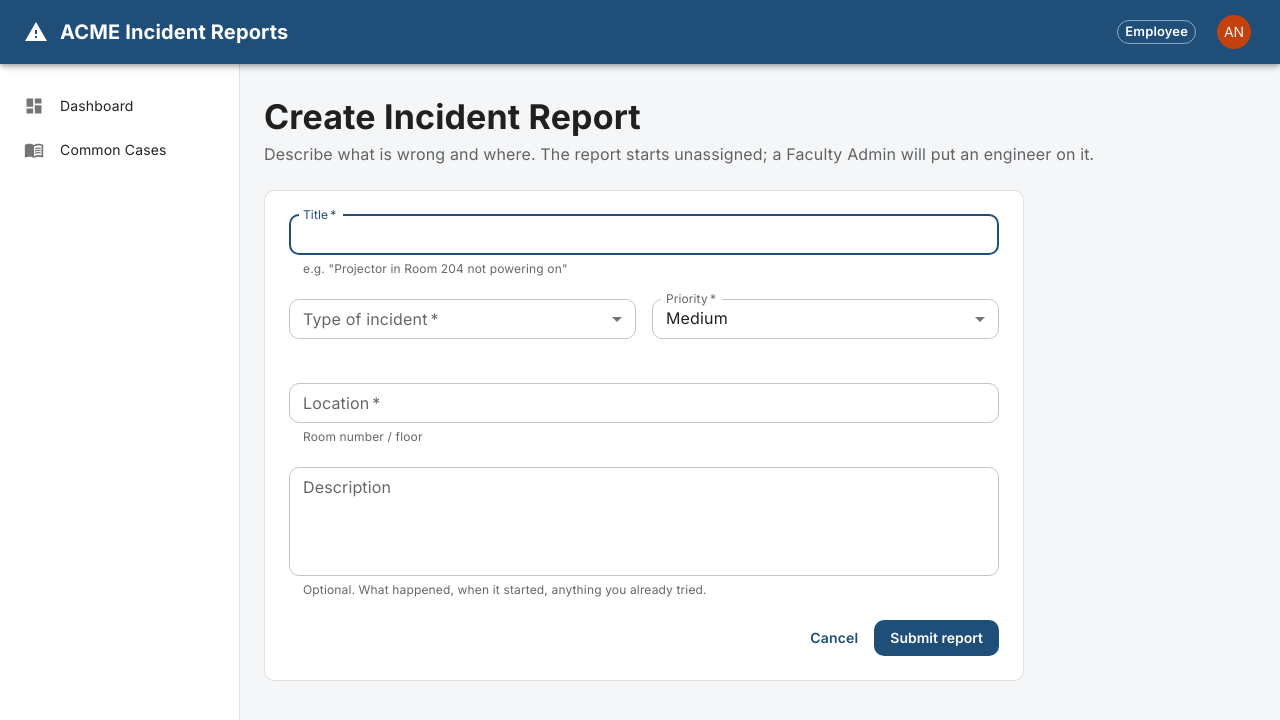
Test: CreateReportPage › offers the incident types and priorities
Expected: the heading "Create Incident Report" is shown, left=264, top=96, right=641, bottom=137
Click the dropdown named "type of incident" at (462, 319), box left=289, top=299, right=636, bottom=339
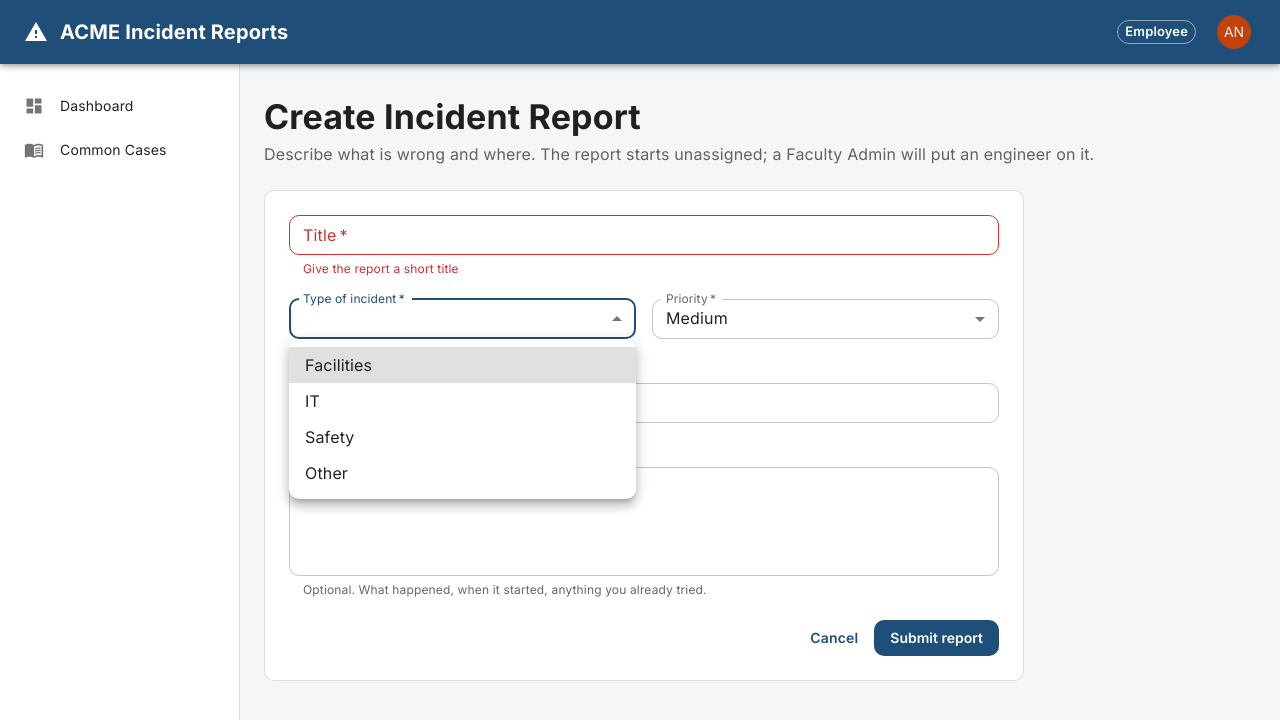
Expected: the options read "Facilities", "IT", "Safety", "Other", in this order, left=289, top=347, right=636, bottom=383; left=305, top=391, right=320, bottom=411; left=305, top=427, right=354, bottom=447; left=305, top=463, right=348, bottom=483
Press Escape
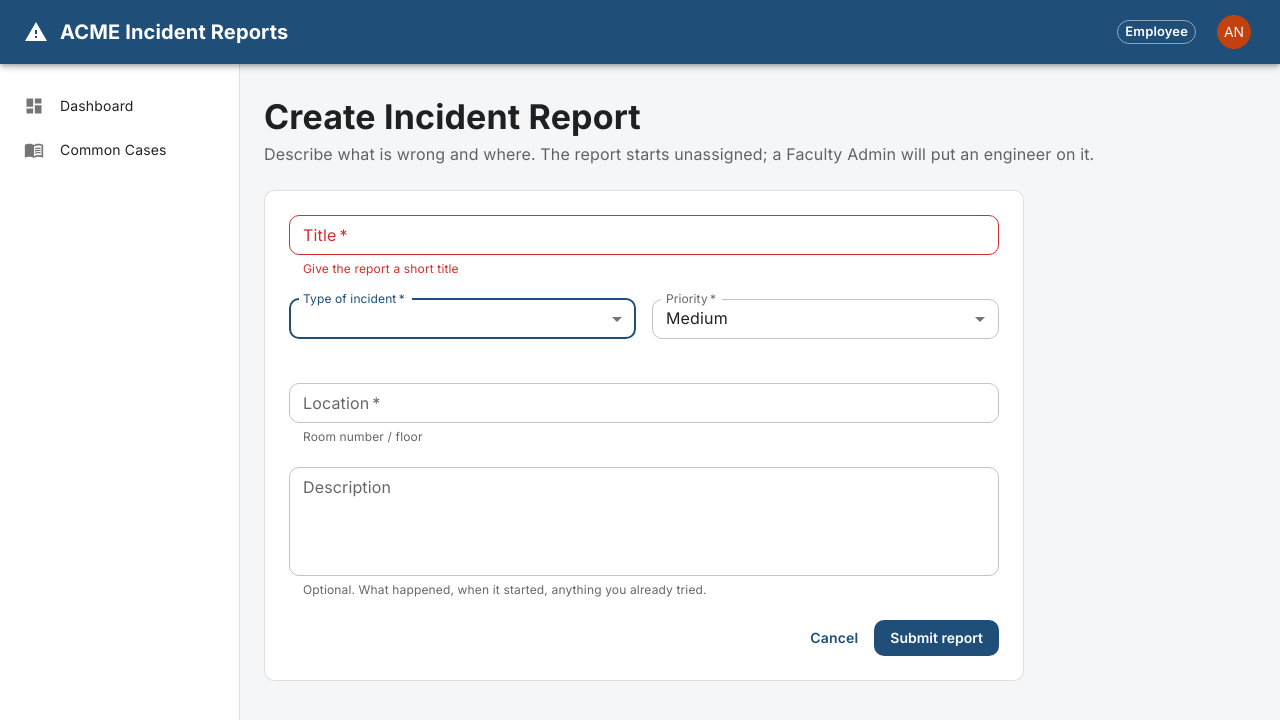
Click the dropdown named "priority" at (697, 318), box left=666, top=308, right=728, bottom=328
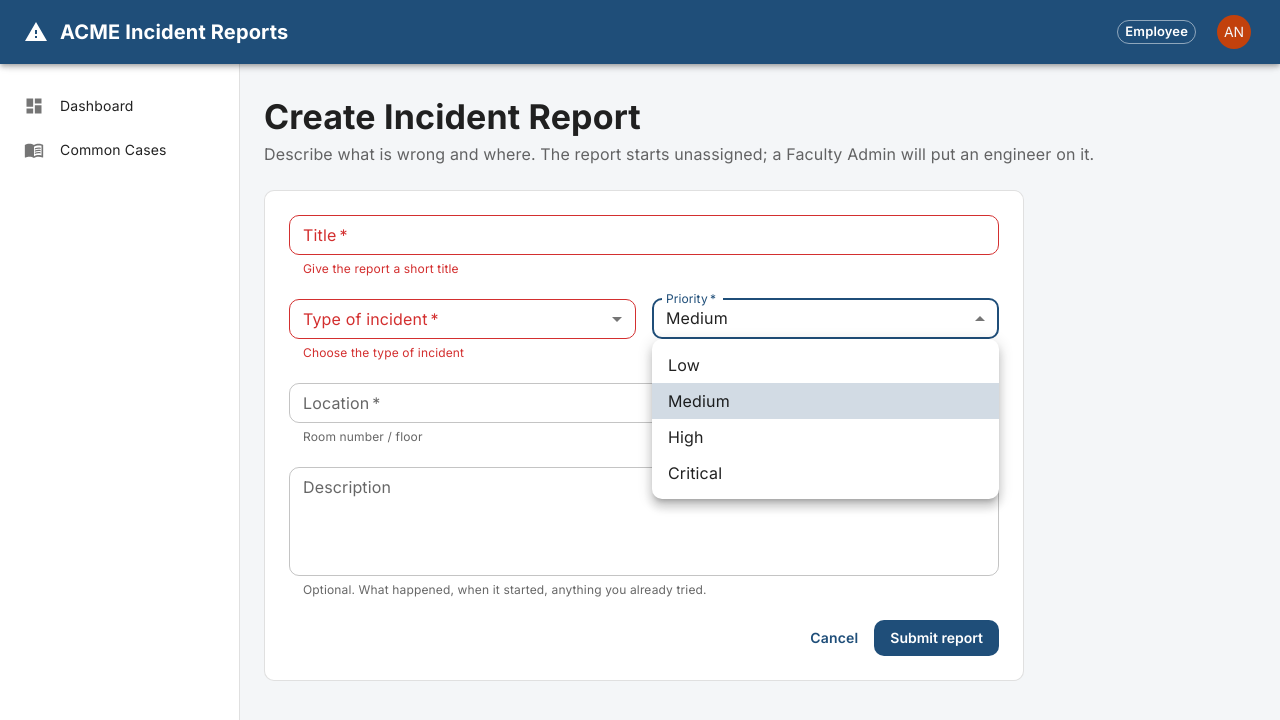
Expected: the options read "Low", "Medium", "High", "Critical", in this order, left=668, top=355, right=700, bottom=375; left=652, top=383, right=999, bottom=419; left=668, top=427, right=704, bottom=447; left=668, top=463, right=722, bottom=483
